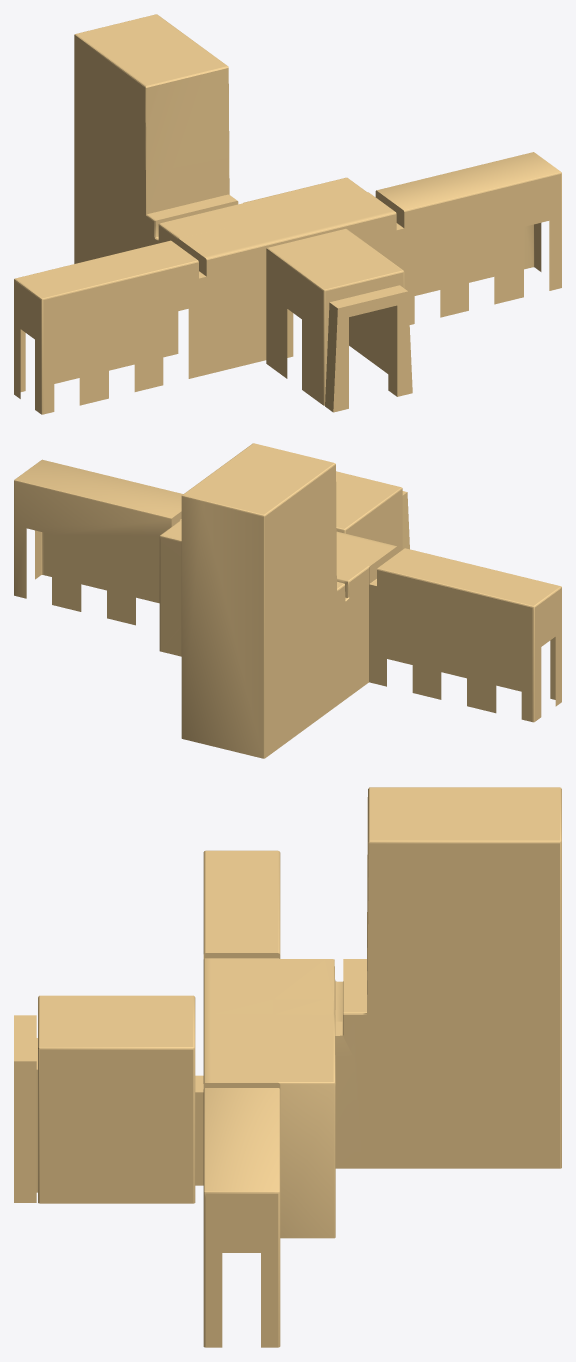
File: Corridors-walls.FBX
3 views of the same model, one above another, from view 1: azimuth 30°, elevation 25°; view 2: azimuth 150°, elevation 25°; view 3: azimuth 270°, elevation 25° (orthographic). The views are drawn at different scales.
Visible parts, largest first — view 1: ChamferBox002; view 2: ChamferBox002; view 3: ChamferBox002.
Part boxes in pixels (x1,y1,x2,y2): ChamferBox002: (14,14,561,414); ChamferBox002: (14,443,561,758); ChamferBox002: (14,787,561,1347).
Size of the model in its own units: 15.49 by 6.92 by 10.49.
